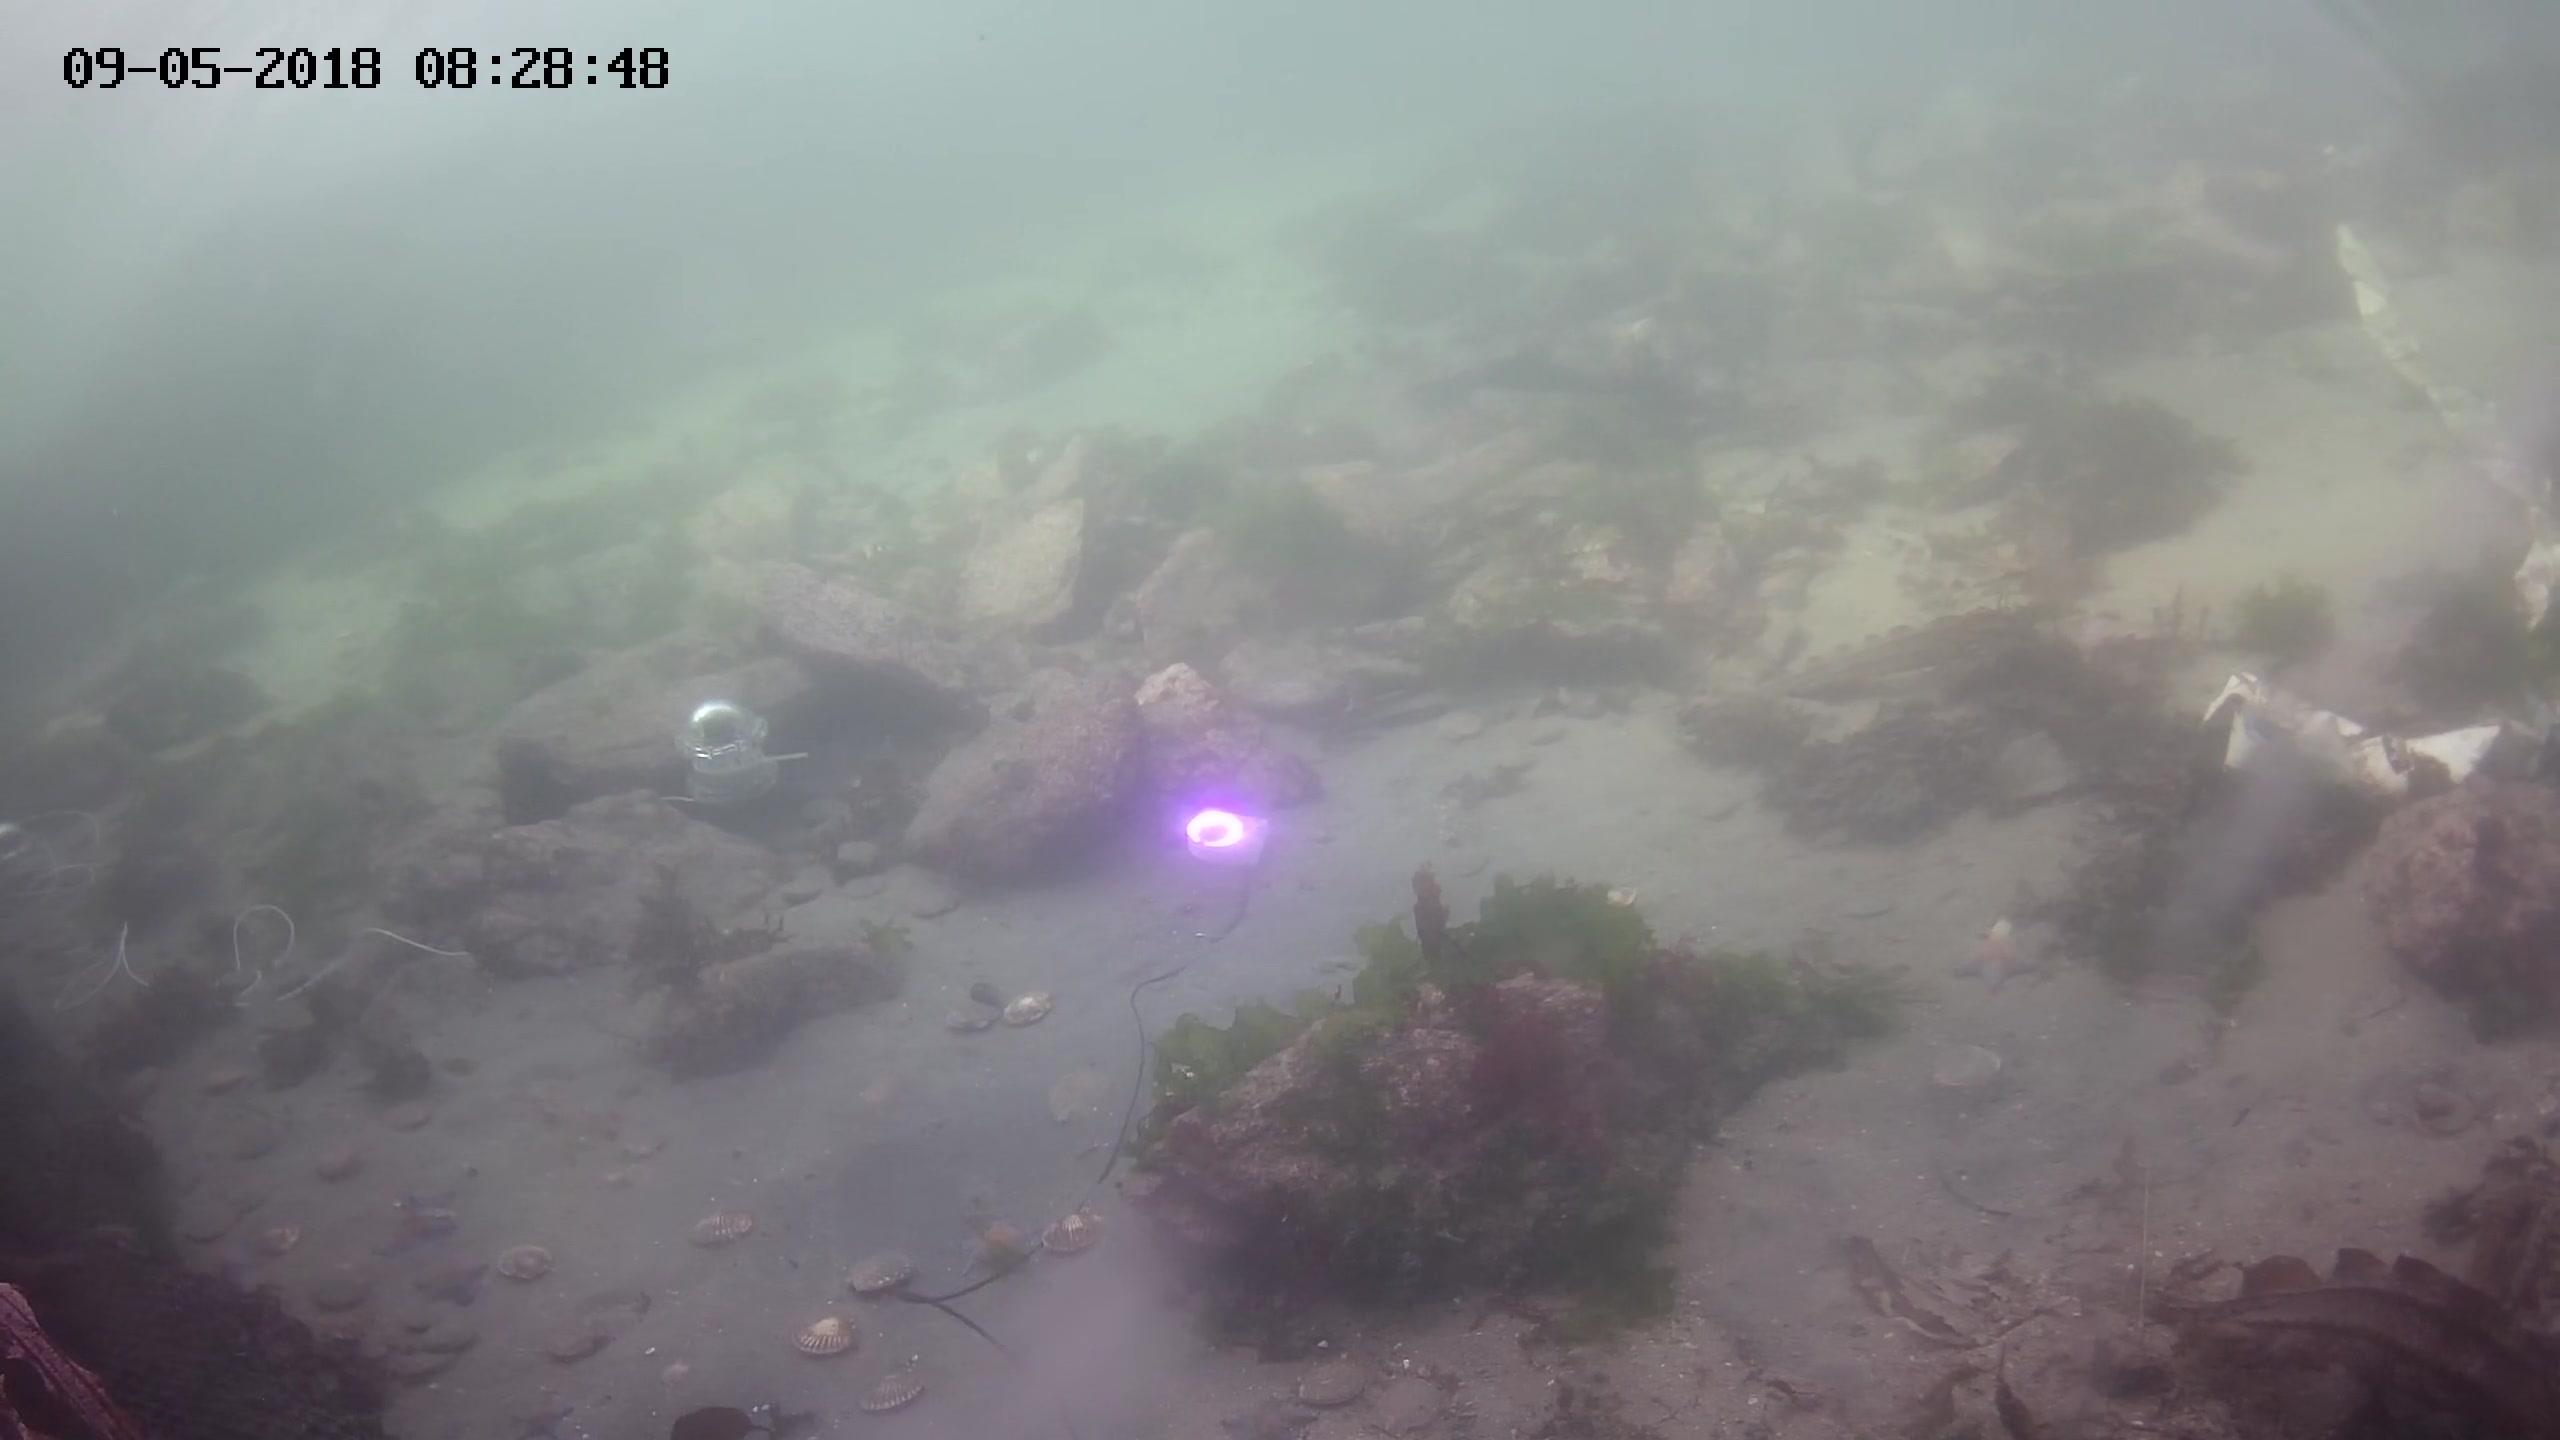scallop: (1046, 1060, 1125, 1129), (1364, 1382, 1452, 1431), (789, 1313, 856, 1363), (494, 1238, 556, 1287), (867, 1366, 927, 1415), (1289, 1361, 1364, 1400), (847, 1250, 911, 1296), (1043, 1210, 1097, 1261), (944, 993, 1006, 1036), (693, 1210, 760, 1248), (309, 1261, 362, 1308), (246, 1218, 302, 1262), (1002, 986, 1062, 1023), (652, 1359, 695, 1391)
starfish: (1946, 920, 2043, 993), (376, 1190, 462, 1248), (956, 1213, 1025, 1276), (411, 1261, 476, 1306)
